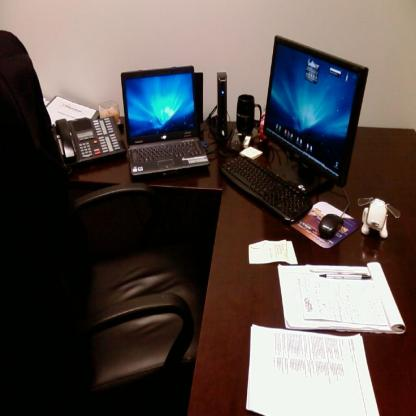board: (122, 55, 206, 179)
